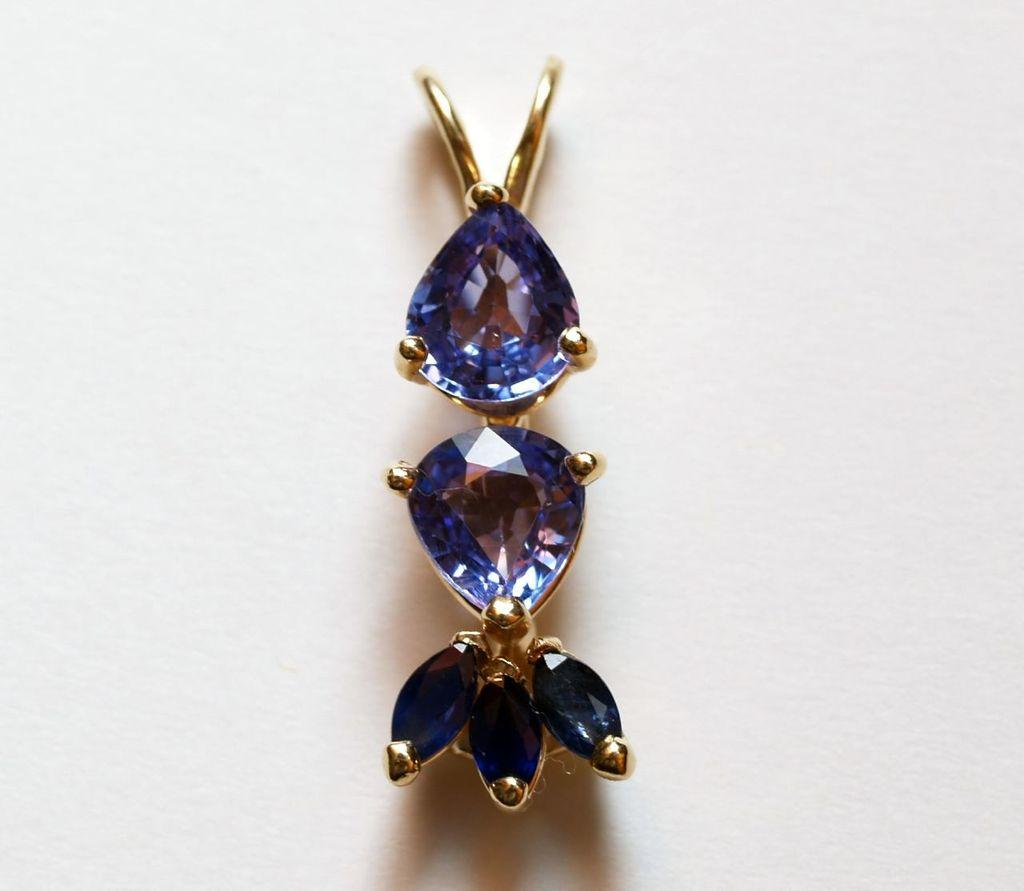earring: (382, 60, 637, 811)
